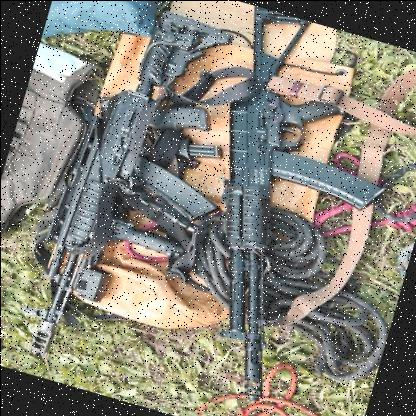rifle: (172, 13, 416, 416), (0, 0, 243, 389)
